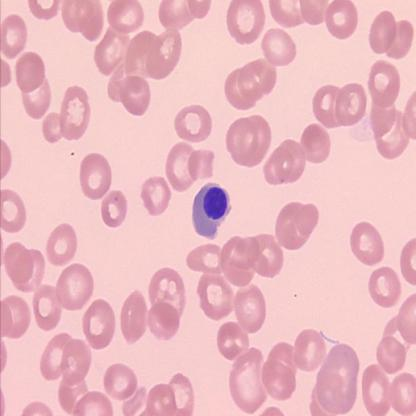NRC: (191, 178, 234, 242)
